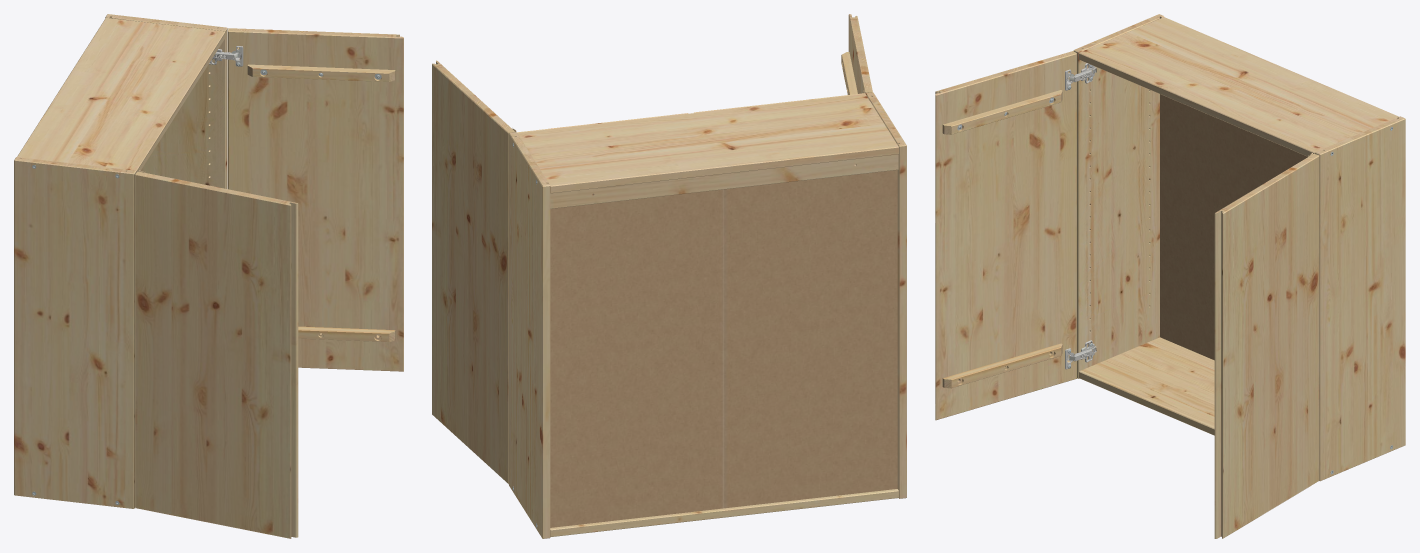
File: ivarBuildStep7-CQ9wRPjh.glb
The picture shows the model from 3 angles, left to right: view 1: azimuth 30°, elevation 25°; view 2: azimuth 150°, elevation 25°; view 3: azimuth 270°, elevation 25°; orthographic projection. The views are drawn at different scales.
Visible parts, largest first — view 1: IVAR, Door, Door2; view 2: IVAR, Door2, Door; view 3: IVAR, Door, Door2.
Part boxes in pixels (box(x1,y1,x2,y2)): IVAR: box(14, 14, 227, 508); Door: box(135, 170, 298, 538); Door2: box(213, 28, 403, 371); IVAR: box(508, 92, 906, 538); Door2: box(432, 60, 516, 483); Door: box(841, 14, 872, 94); IVAR: box(1073, 14, 1405, 481); Door: box(935, 51, 1091, 420); Door2: box(1214, 153, 1319, 538).
Size of the model in its own units: 1.08 by 0.8266 by 1.08.
5 materials, 5 textured.
